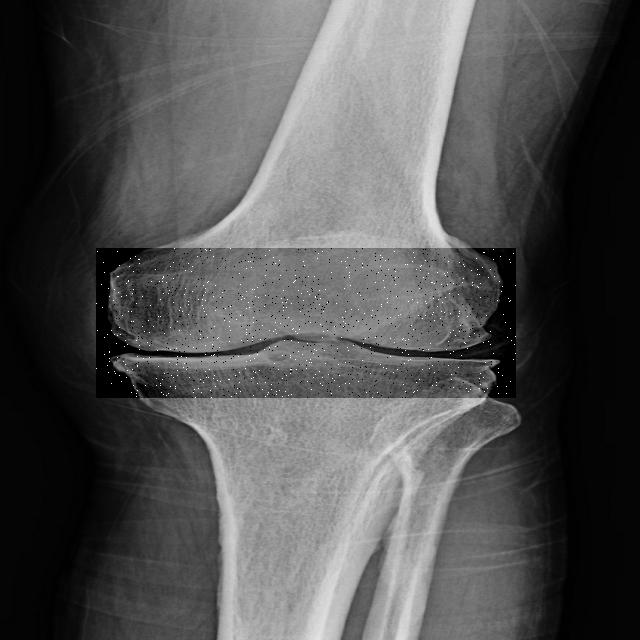normal: (96, 248, 516, 398)
